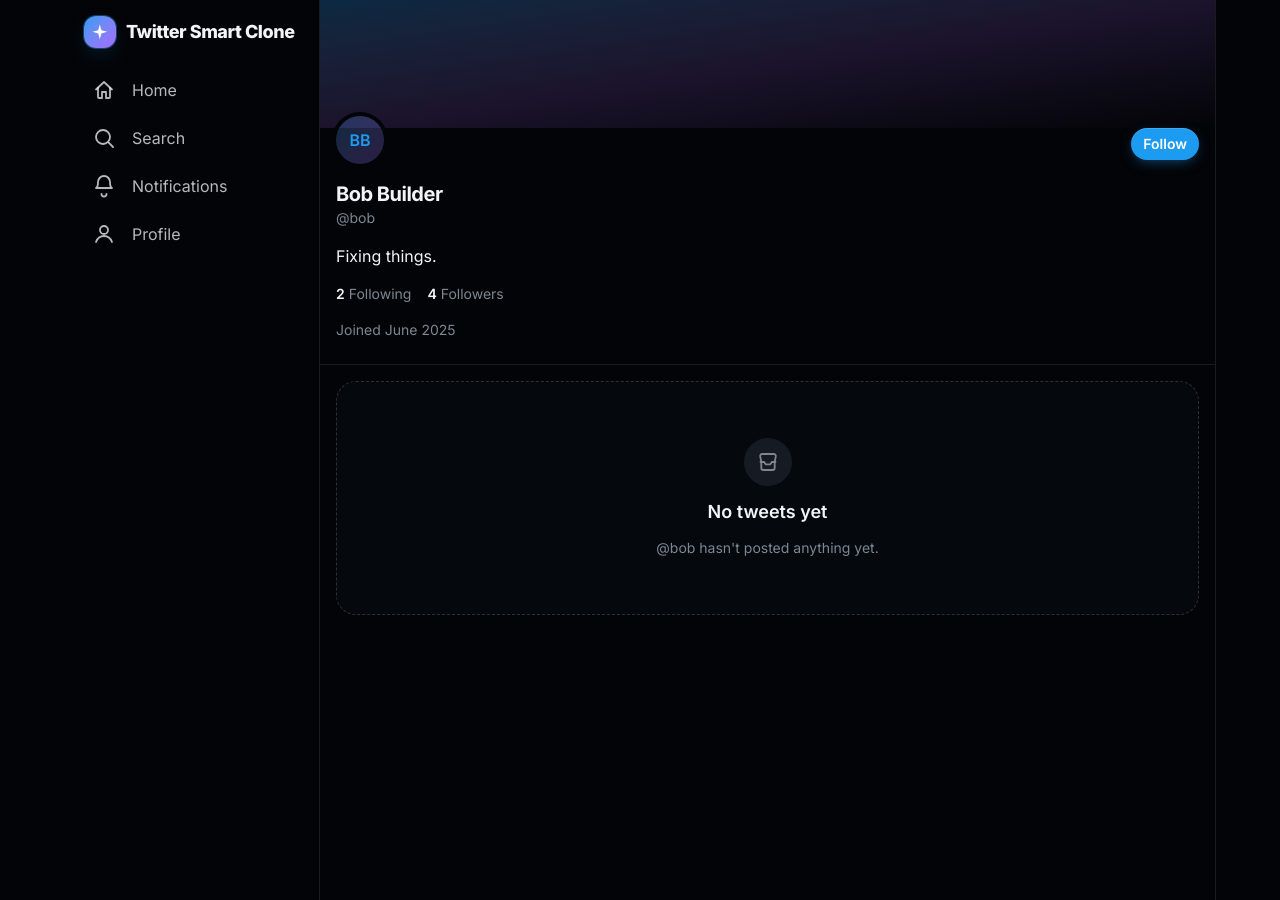
Test: FollowButton › shows a "Follow" control for an unfollowed profile and follows optimistically
Click the button "Follow".
click(1165, 144)  # box [1131,128,1199,160]
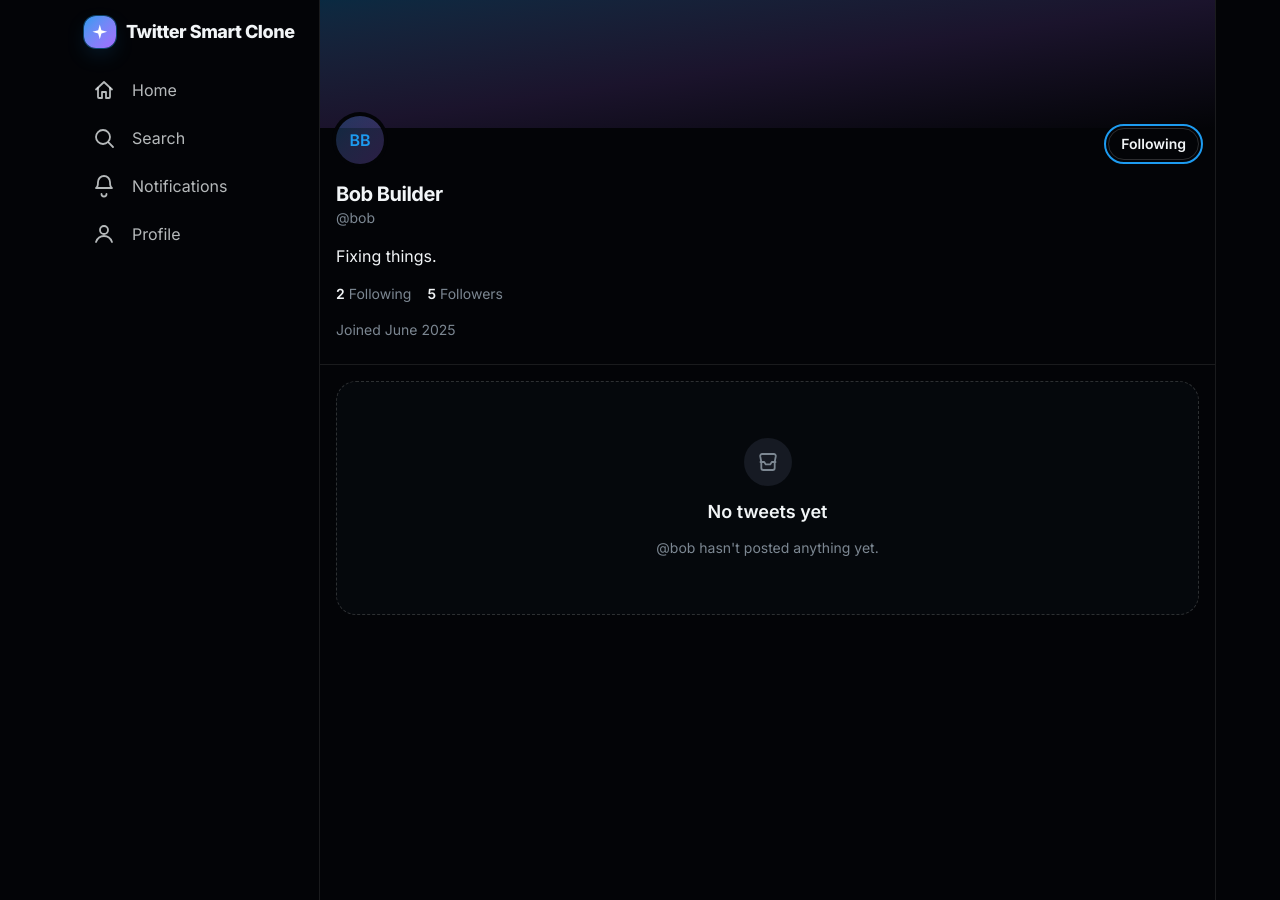
Now the button "Following" is shown, box [1108,128,1199,160]
Now the text "5" is shown, box [427,285,436,302]
